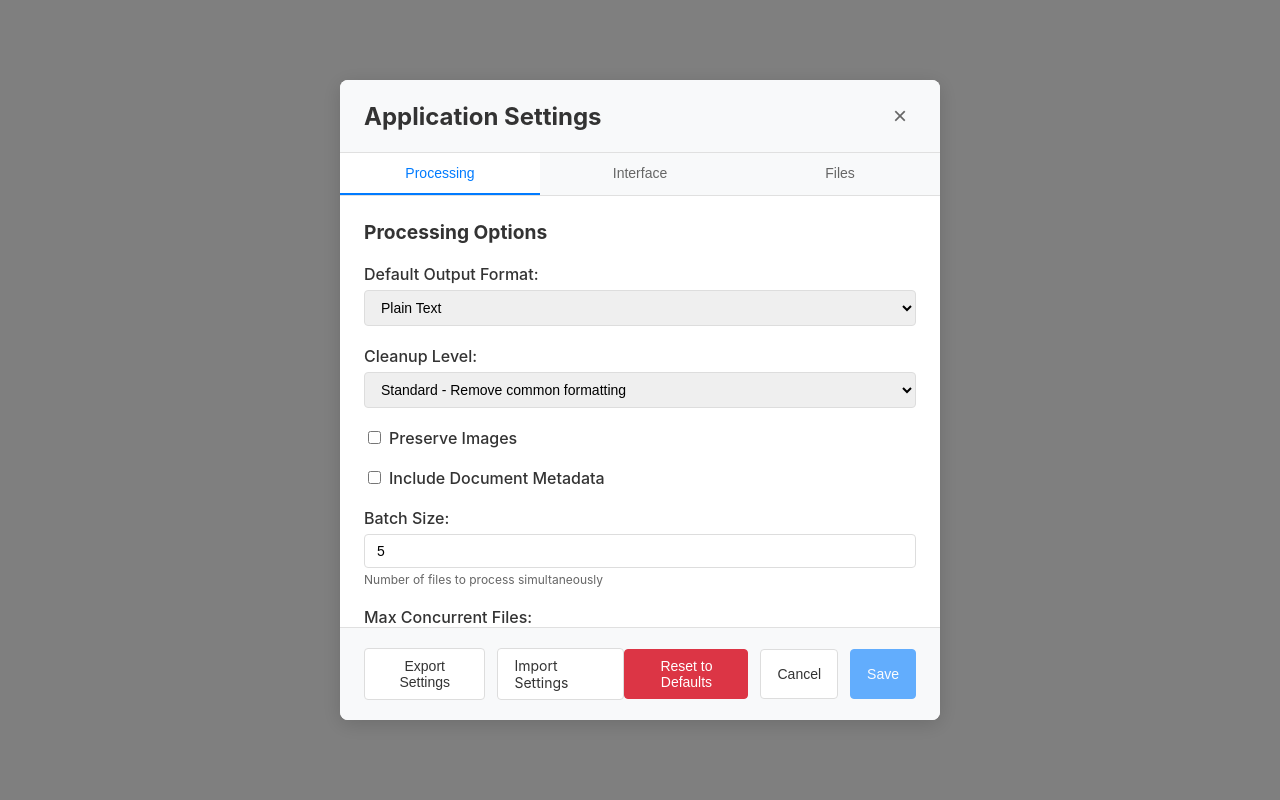
Test: SettingsPanel Component › error handling › should display save errors
The width and height of the screenshot is (1280, 800).
Expected: the heading "Processing Options" is shown, top-left (364, 220), bottom-right (547, 244)
Note: Make a change
Select "HTML" in the dropdown labelled "Default Output Format:": (640, 308) top-left (364, 290), bottom-right (916, 326)
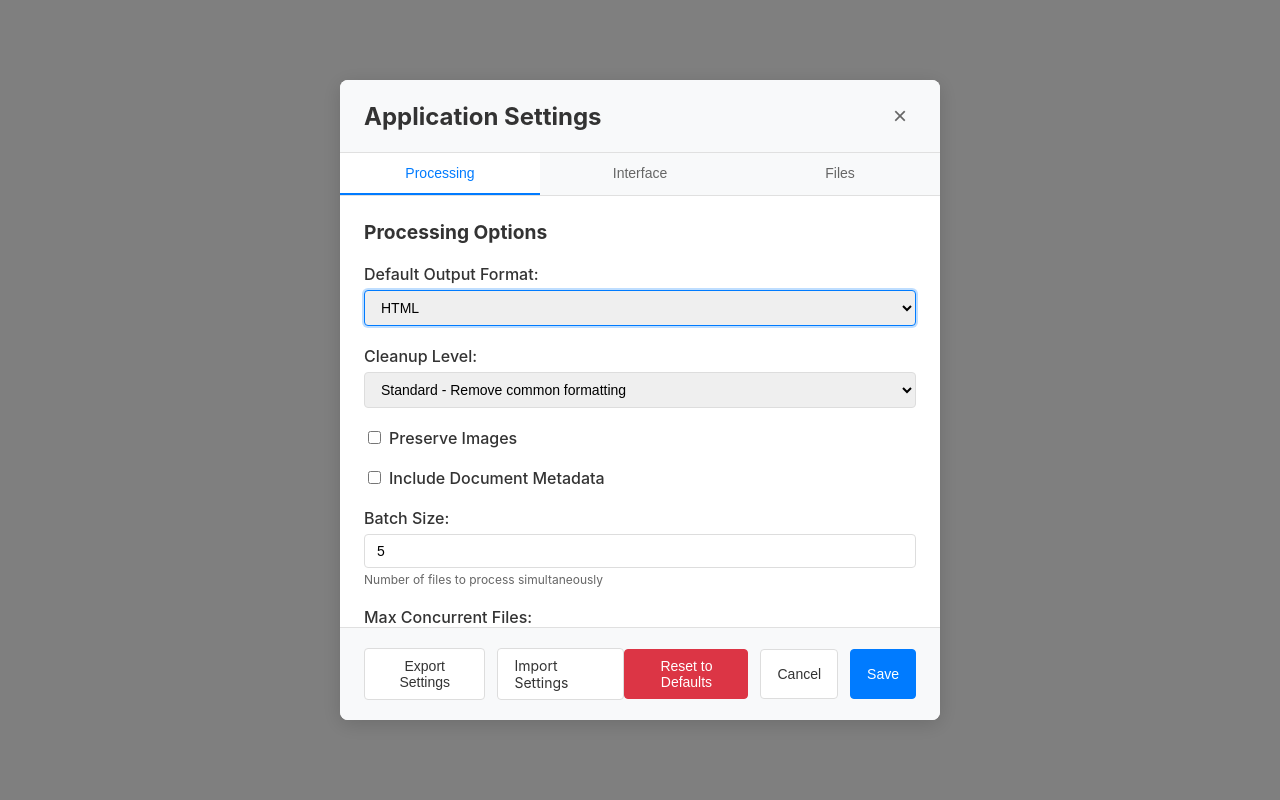
Note: Try to save
Click the button "Save": click(883, 674) top-left (850, 649), bottom-right (916, 699)
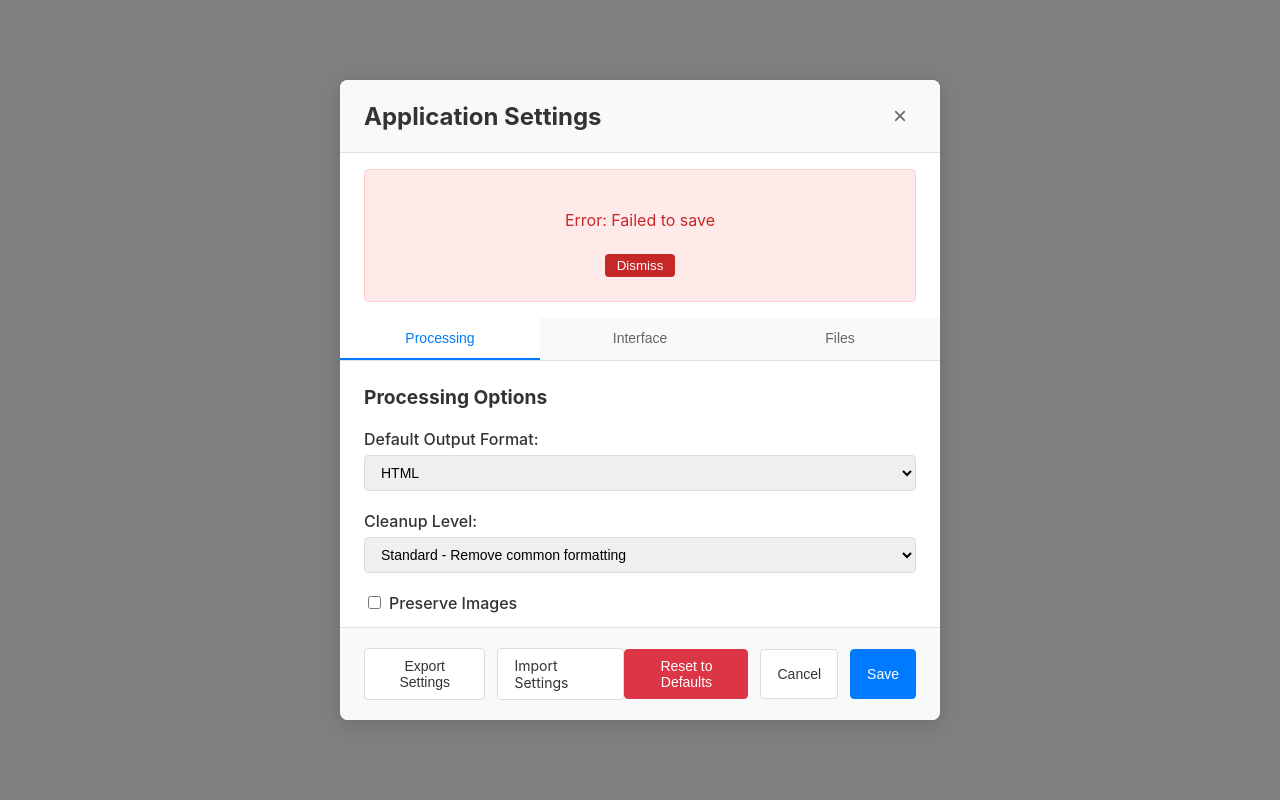
Expected: the text "Error: Failed to save" is shown, top-left (565, 210), bottom-right (715, 230)
